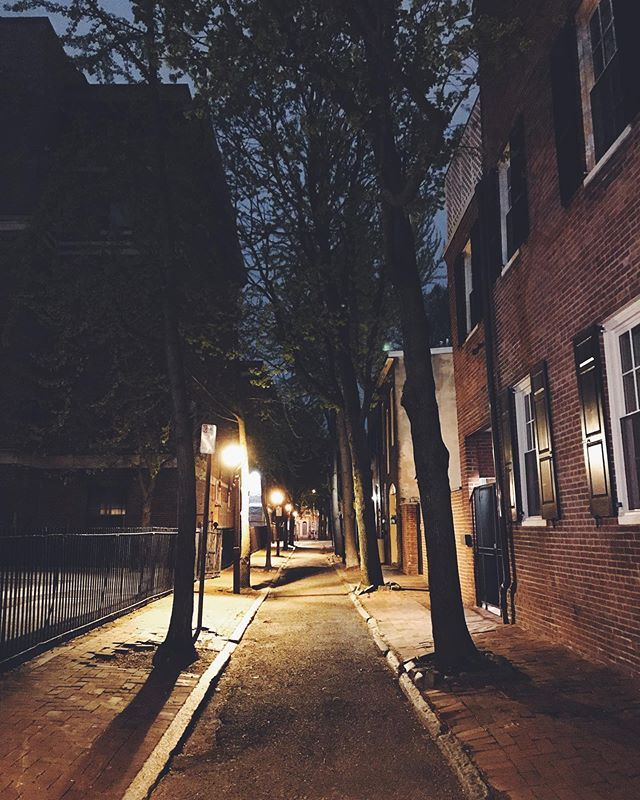building: (1, 46, 228, 572), (464, 1, 640, 621)
street: (101, 546, 500, 800)
tree: (206, 1, 505, 683), (235, 43, 421, 577), (45, 189, 253, 664)
